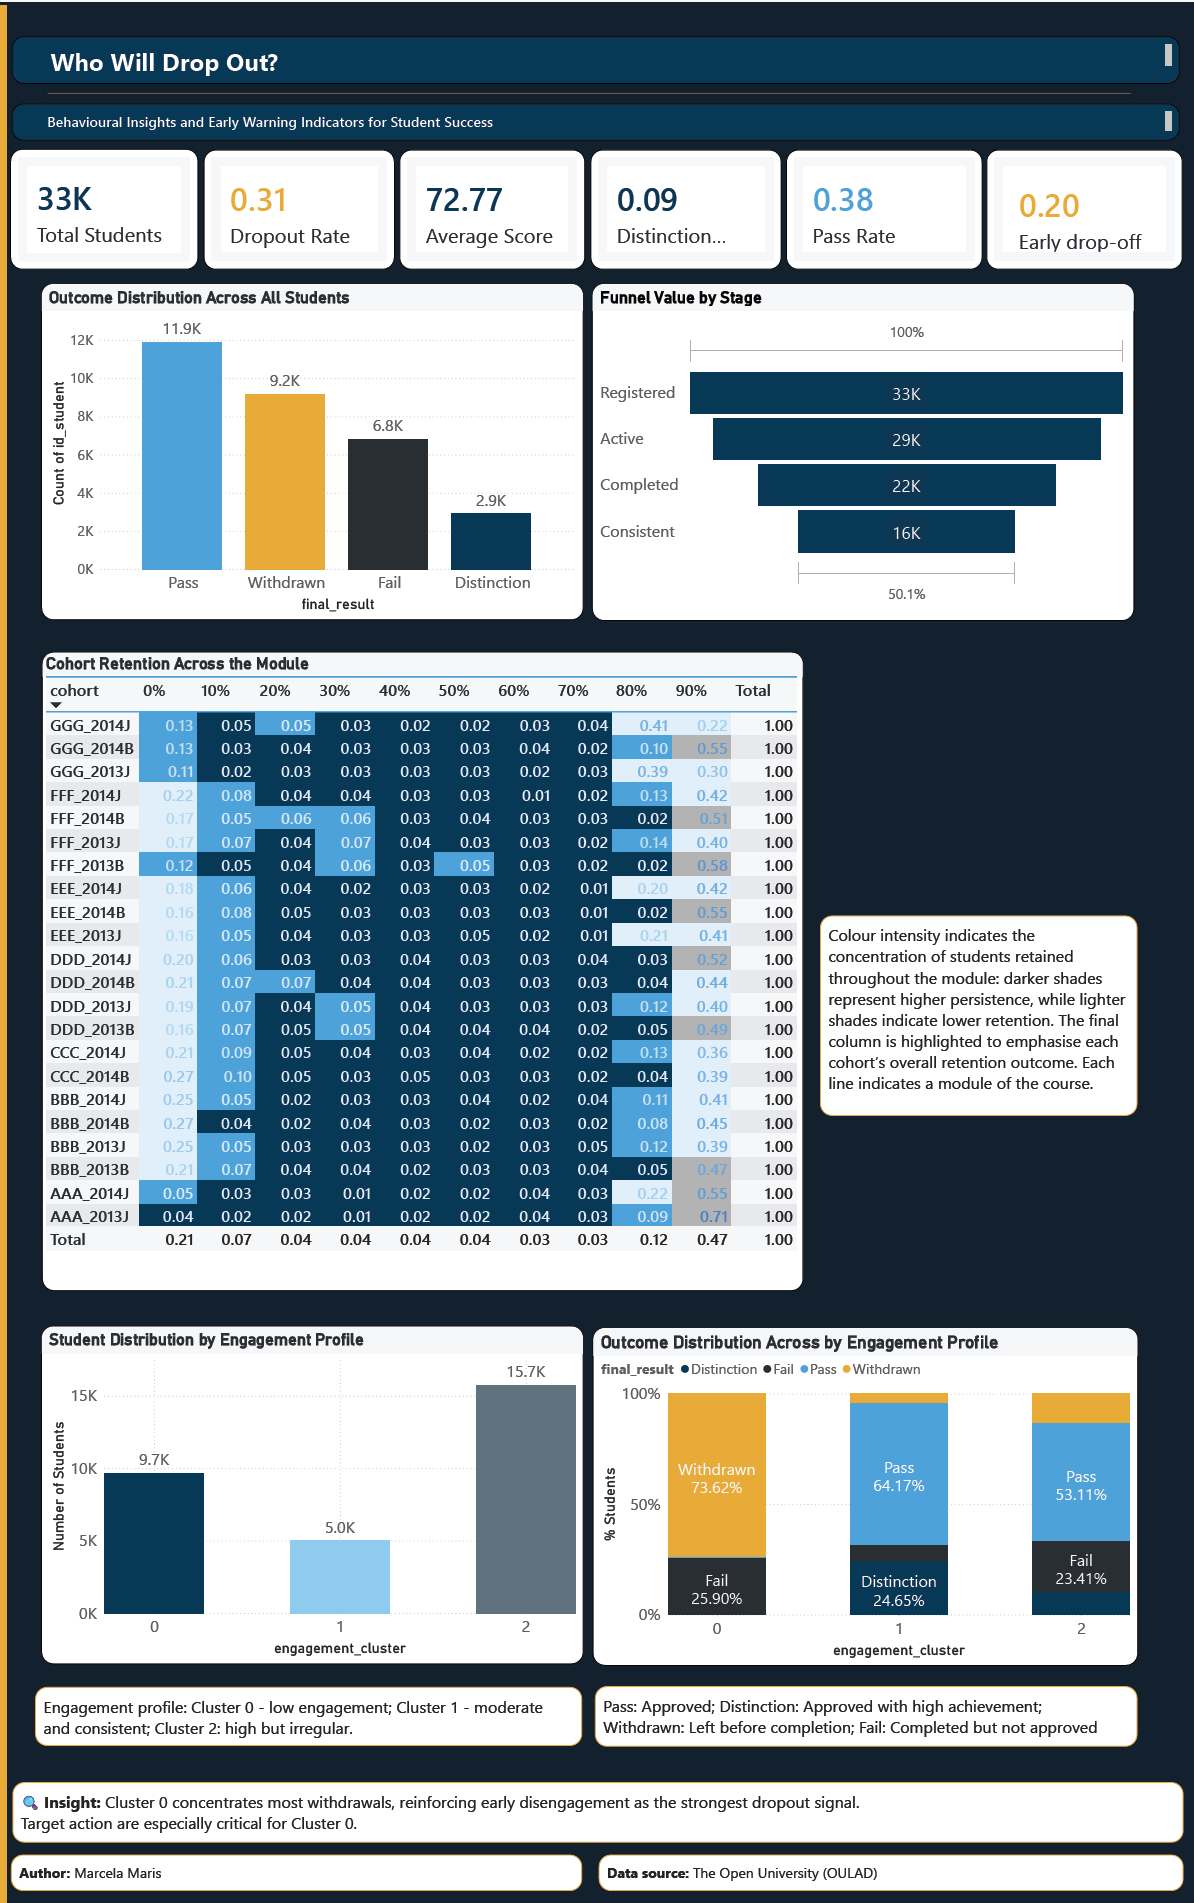

The page's visual inventory and layout, read from the dashboard file:
{"tool":"powerbi","page":{"name":"Page 1","canvas":[1600,2400],"ordinal":0},"visuals":[{"type":"shape","title":"Back","box":[0,0,1600,2400],"z":0},{"type":"shape","box":[62,132,1452,26],"z":1000},{"type":"textbox","box":[23.3,68.9,1545.6,63.3],"z":2000},{"type":"textbox","box":[23.3,157.8,1545.6,48.9],"z":3000},{"type":"cardVisual","fields":{"Data":["feature_dataset_for_powerbi.Total Students"]},"box":[21.1,217.8,248.9,160],"z":4000},{"type":"cardVisual","fields":{"Data":["feature_dataset_for_powerbi.Dropout Rate"]},"box":[276.7,218.9,253.3,158.9],"z":5000},{"type":"cardVisual","fields":{"Data":["feature_dataset_for_powerbi.Pass Rate"]},"box":[1047.8,218.9,260,158.9],"z":6000},{"type":"cardVisual","fields":{"Data":["feature_dataset_for_powerbi.Distinction Rate"]},"box":[788.9,218.9,253.3,158.9],"z":7000},{"type":"cardVisual","fields":{"Data":["feature_dataset_for_powerbi.Average Score"]},"box":[535.6,218.9,246.7,158.9],"z":8000},{"type":"cardVisual","fields":{"Data":["feature_dataset_for_powerbi.Early Disengagement Rate"]},"box":[1313.3,218.9,260,158.9],"z":9000},{"type":"funnel","fields":{"Category":["EngagementStages.Stage"],"Y":["EngagementStages.Funnel Value"]},"box":[791,396,718,447],"z":10000},{"type":"pivotTable","title":"Cohort Retention Across the Module","fields":{"Rows":["feature_dataset_for_powerbi.cohort"],"Columns":["feature_dataset_for_powerbi.retention_bin"],"Values":["feature_dataset_for_powerbi.Retention Rate"]},"box":[62.5,883.8,1008.8,846.2],"z":11000},{"type":"clusteredColumnChart","title":"Student Distribution by Engagement Profile","fields":{"Category":["feature_dataset_for_powerbi.engagement_cluster"],"Y":["Count(feature_dataset_for_powerbi.id_student)"]},"box":[62,1776,718,448],"z":12000},{"type":"hundredPercentStackedColumnChart","title":"Outcome Distribution Across by Engagement Profile","fields":{"Category":["feature_dataset_for_powerbi.engagement_cluster"],"Y":["EngagementStages.% Students"],"Series":["feature_dataset_for_powerbi.final_result"]},"box":[792,1778,722,448],"z":13000},{"type":"clusteredColumnChart","title":"Outcome Distribution Across All Students","fields":{"Category":["feature_dataset_for_powerbi.final_result"],"Y":["Count(feature_dataset_for_powerbi.id_student)"]},"box":[61.7,395.6,718.3,446.7],"z":14000},{"type":"textbox","box":[1091.2,1275,420,247.5],"z":15000},{"type":"shape","box":[0,25,10,2375],"z":16000},{"type":"textbox","box":[21.8,2261.8,1048.2,100],"z":17000},{"type":"textbox","box":[1091.8,2261.8,459.1,47.3],"z":18000},{"type":"textbox","box":[1090.9,2316.4,460,45.5],"z":19000}]}

Visuals, with their boxes on the page's 1600x2400 design canvas (x1, y1, x2, y2). These are canvas units, not pixel positions in the 1194x1903 screenshot, which may show the page scaled, cropped or inside an application window:
"Back" shape: (0,0,1600,2400)
shape: (62,132,1514,158)
textbox: (23,69,1569,132)
textbox: (23,158,1569,207)
cardVisual - feature_dataset_for_powerbi.Total Students: (21,218,270,378)
cardVisual - feature_dataset_for_powerbi.Dropout Rate: (277,219,530,378)
cardVisual - feature_dataset_for_powerbi.Pass Rate: (1048,219,1308,378)
cardVisual - feature_dataset_for_powerbi.Distinction Rate: (789,219,1042,378)
cardVisual - feature_dataset_for_powerbi.Average Score: (536,219,782,378)
cardVisual - feature_dataset_for_powerbi.Early Disengagement Rate: (1313,219,1573,378)
funnel - EngagementStages.Stage x EngagementStages.Funnel Value: (791,396,1509,843)
"Cohort Retention Across the Module" pivotTable: (62,884,1071,1730)
"Student Distribution by Engagement Profile" clusteredColumnChart: (62,1776,780,2224)
"Outcome Distribution Across by Engagement Profile" hundredPercentStackedColumnChart: (792,1778,1514,2226)
"Outcome Distribution Across All Students" clusteredColumnChart: (62,396,780,842)
textbox: (1091,1275,1511,1522)
shape: (0,25,10,2400)
textbox: (22,2262,1070,2362)
textbox: (1092,2262,1551,2309)
textbox: (1091,2316,1551,2362)
